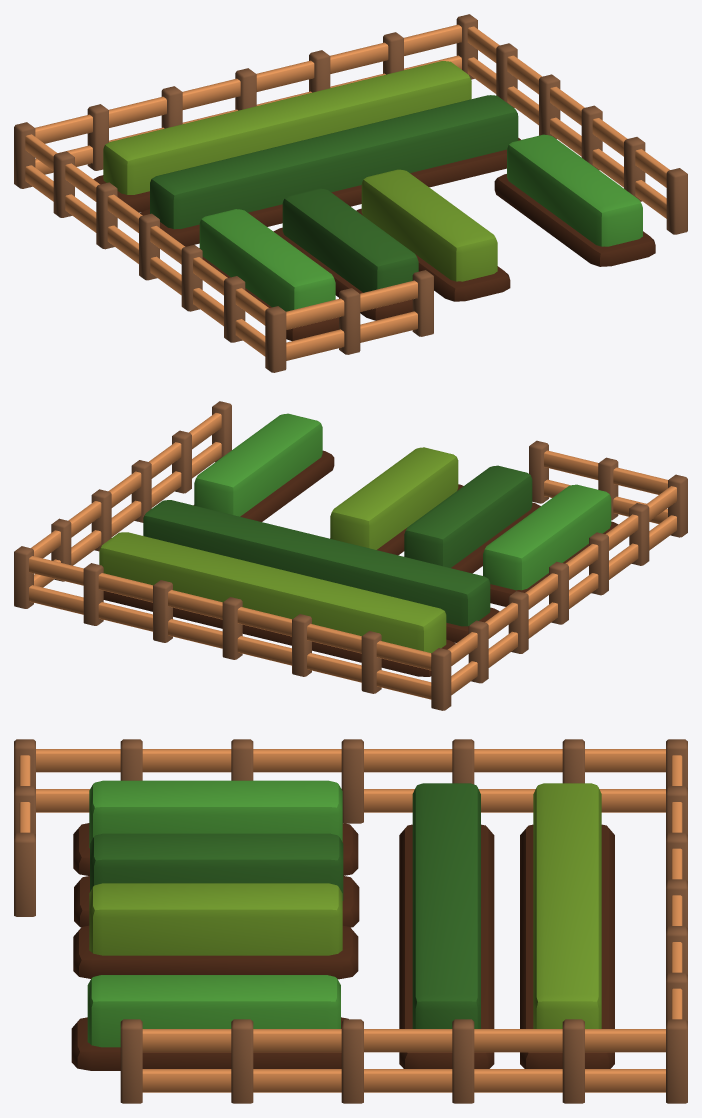
The model's file is Field-3.fbx.
The picture shows the model from 3 angles, top to bottom: view 1: azimuth 30°, elevation 25°; view 2: azimuth 150°, elevation 25°; view 3: azimuth 270°, elevation 25°; orthographic projection. The views are drawn at different scales.
Parts seen in each view (by area): view 1: Cube.1268, Cube.1270, Cube.1264, Cube.1266, Cube.1262, Cube.1260, Cube.1253, Cube.1254, Cube.1258, Cube.1251, Cube.1252, Cube.1257 (+7 smaller); view 2: Cube.1270, Cube.1268, Cube.1253, Cube.1260, Cube.1251, Cube.1266, Cube.1264, Cube.1262, Cube.1254, Cube.1258, Cube.1252, Cube.1257 (+7 smaller); view 3: Cube.1258, Cube.1264, Cube.1254, Cube.1268, Cube.1270, Cube.1266, Cube.1260, Cube.1262, Cube.1257, Cube.1267, Cube.1269, Cube.1263 (+8 smaller).
Part boxes in pixels (left/top/right/bottom): Cube.1268: left=150, top=95, right=518, bottom=229; Cube.1270: left=103, top=61, right=471, bottom=194; Cube.1264: left=361, top=169, right=497, bottom=281; Cube.1266: left=507, top=134, right=642, bottom=246; Cube.1262: left=282, top=188, right=418, bottom=292; Cube.1260: left=199, top=209, right=335, bottom=311; Cube.1253: left=35, top=24, right=461, bottom=174; Cube.1254: left=25, top=134, right=268, bottom=356; Cube.1258: left=467, top=26, right=669, bottom=218; Cube.1251: left=14, top=14, right=477, bottom=188; Cube.1252: left=53, top=151, right=245, bottom=342; Cube.1257: left=496, top=43, right=687, bottom=234; Cube.1270: left=99, top=532, right=446, bottom=653; Cube.1268: left=143, top=500, right=490, bottom=626; Cube.1253: left=29, top=556, right=431, bottom=699; Cube.1260: left=483, top=484, right=611, bottom=590; Cube.1251: left=14, top=546, right=451, bottom=710; Cube.1266: left=194, top=413, right=322, bottom=516; Cube.1264: left=330, top=447, right=458, bottom=549; Cube.1262: left=404, top=465, right=532, bottom=567; Cube.1254: left=447, top=486, right=676, bottom=695; Cube.1258: left=31, top=413, right=221, bottom=587; Cube.1252: left=468, top=503, right=649, bottom=683; Cube.1257: left=51, top=401, right=231, bottom=581; Cube.1258: left=142, top=1029, right=665, bottom=1092; Cube.1264: left=89, top=883, right=342, bottom=955; Cube.1254: left=36, top=749, right=665, bottom=812; Cube.1268: left=412, top=783, right=480, bottom=1028; Cube.1270: left=533, top=783, right=601, bottom=1028; Cube.1266: left=87, top=975, right=340, bottom=1047; Cube.1260: left=89, top=780, right=342, bottom=847; Cube.1262: left=90, top=833, right=343, bottom=900; Cube.1257: left=120, top=1019, right=584, bottom=1103; Cube.1267: left=399, top=824, right=494, bottom=1068; Cube.1269: left=520, top=824, right=614, bottom=1068; Cube.1263: left=73, top=925, right=358, bottom=979.
Bounding box in the file's own units: 180 × 22.06 × 177.
